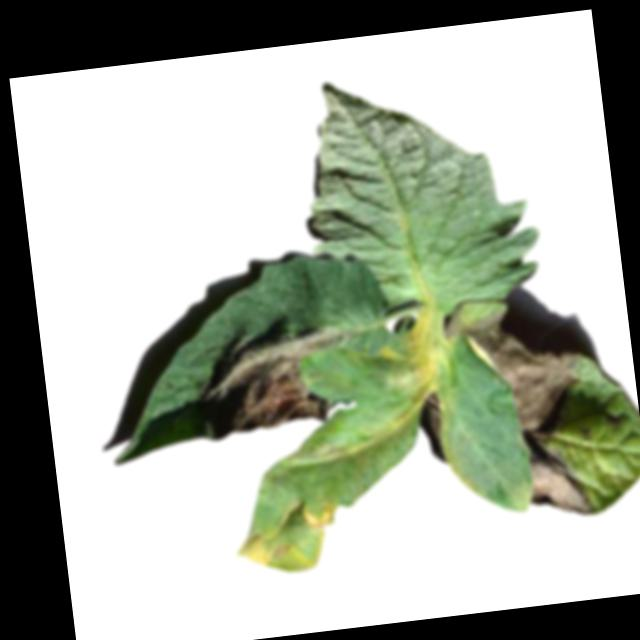Late_blight: (464, 305, 596, 526), (190, 321, 349, 443), (229, 493, 346, 579), (374, 323, 451, 411), (415, 387, 452, 466), (442, 306, 467, 342)
